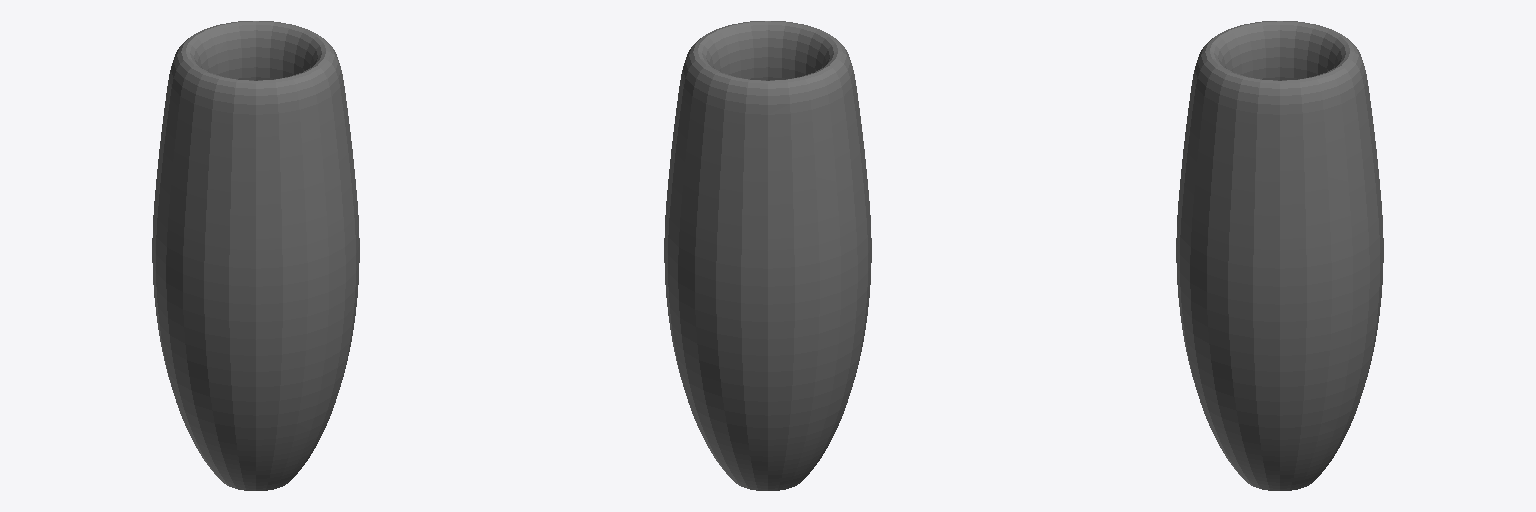
robot.urdf — object:
<?xml version="1.0"?>
<robot name="object">
  <link name="object">
    <visual>
      <origin xyz="0 0 0"/>
      <geometry>
        <mesh
          filename="../../mesh/oakink_virtual/cylinder_bottle_s487.stl" />
      </geometry>
      <material name="mat">
        <color rgba="0.5 0.5 0.5 1"/>
      </material>
    </visual>

    <collision>
      <origin xyz="0 0 0"/>
      <geometry>
        <mesh
          filename="../../mesh/oakink_virtual/cylinder_bottle_s487.stl" />
      </geometry>
    </collision>
  </link>
</robot>

--- Render facts (derived) ---
Views: 3 orthographic renders of the robot side by side, from view 1: azimuth 30°, elevation 25°; view 2: azimuth 150°, elevation 25°; view 3: azimuth 270°, elevation 25°.
Model object with 1 links and 0 joints (none), rooted at object, posed all joints at 0.
Links seen in each view (by area): view 1: object; view 2: object; view 3: object.
Link boxes in pixels (box(x1,y1,x2,y2)): object: box(152, 21, 359, 490); object: box(664, 21, 871, 490); object: box(1176, 21, 1383, 490).
Bounding box of the posed robot: 0.1002 × 0.1002 × 0.2265 m (x, y, z).
1 mesh visuals loaded from 1 distinct referenced files (1 binary STL).